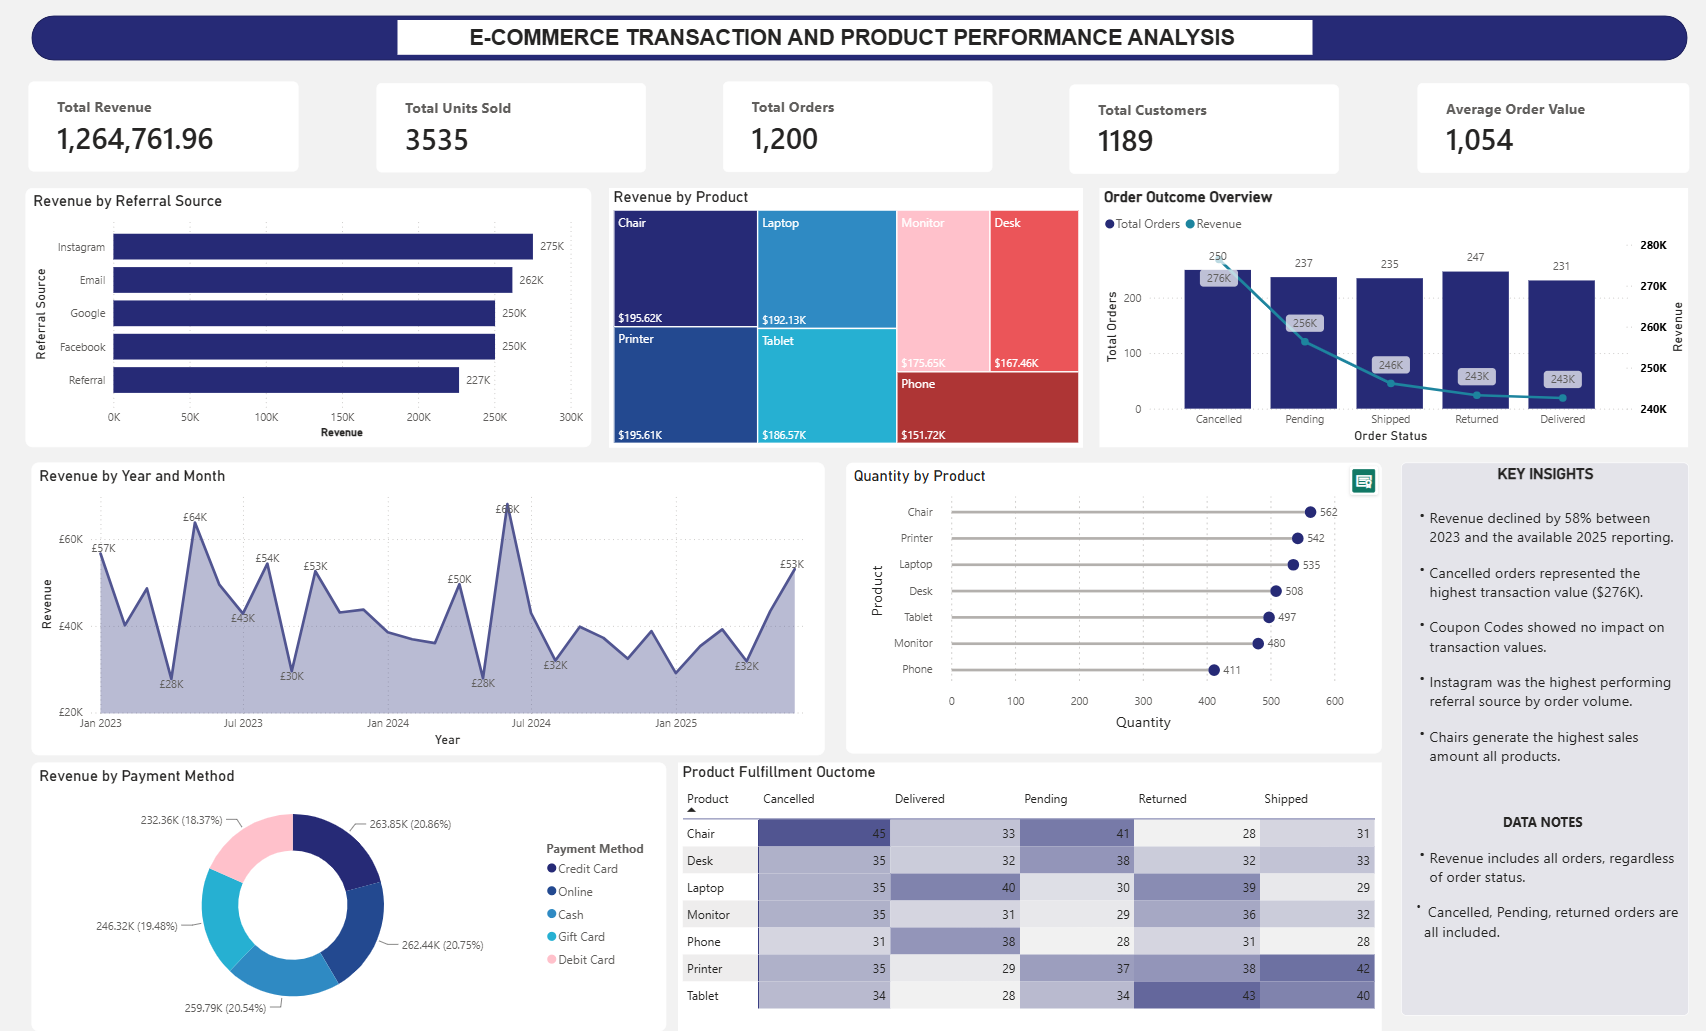

What the dashboard file says about the page in this screenshot:
{"tool":"powerbi","page":{"name":"Page 1","canvas":[1900,1150],"ordinal":0},"visuals":[{"type":"shape","box":[35,18.3,1840,50],"z":0,"group":"g1"},{"type":"cardVisual","fields":{"Data":["Sum(Sheet1.TotalPrice)"]},"box":[31.4,91.4,300,100],"z":0},{"type":"textbox","box":[441.7,23.3,1016.7,38.3],"z":1000,"group":"g1"},{"type":"cardVisual","fields":{"Data":["CountNonNull(Sheet1.OrderID)"]},"box":[803.4,92,299.3,101],"z":1000},{"type":"cardVisual","fields":{"Data":["Count(Sheet1.CustomerID)"]},"box":[1189,94.2,299.3,99.2],"z":2000},{"type":"cardVisual","fields":{"Data":["Sheet1.Sum of TotalPrice divided by Count of OrderID"]},"box":[1574.7,93.5,302,100],"z":3000},{"type":"cardVisual","fields":{"Data":["Sum(Sheet1.Quantity)"]},"box":[417.7,93.7,299.3,99.2],"z":4000},{"type":"barChart","fields":{"Category":["Sheet1.ReferralSource","Sheet1.OrderID"],"Y":["Sum(Sheet1.TotalPrice)"]},"box":[28.4,209.7,629,287.8],"z":5000},{"type":"treemap","fields":{"Group":["Sheet1.Product"],"Values":["Sum(Sheet1.TotalPrice)"]},"box":[676.7,210,526.7,288.3],"z":6000},{"type":"areaChart","fields":{"Y":["Sum(Sheet1.TotalPrice)"],"Category":["Sheet1.Date.Variation.Date Hierarchy.Year","Sheet1.Date.Variation.Date Hierarchy.Month"]},"box":[35.5,515.3,881.3,325.2],"z":7000},{"type":"lineStackedColumnComboChart","title":"Order Outcome Overview ","fields":{"Category":["Sheet1.OrderStatus"],"Y":["Count(Sheet1.OrderID)"],"Y2":["Sum(Sheet1.TotalPrice)"]},"box":[1222.4,209.7,653.9,287.8],"z":8000},{"type":"donutChart","fields":{"Category":["Sheet1.PaymentMethod"],"Y":["Sum(Sheet1.TotalPrice)"]},"box":[35.5,847.5,705.4,298.5],"z":10000},{"type":"lollipopBarChart29115F0ADEDB437DBCDF8E8A3E66E088","fields":{"axis":["Sheet1.Product"],"values":["Sum(Sheet1.Quantity)"]},"box":[939.9,515.3,595.2,323.4],"z":11000},{"type":"textbox","title":"KEY INSIGHTS","box":[1556.5,515.3,319.8,614.8],"z":12000},{"type":"pivotTable","title":"Product Fulfillment Ouctome ","fields":{"Rows":["Sheet1.Product"],"Columns":["Sheet1.OrderStatus"],"Values":["Count(Sheet1.OrderID)"]},"box":[753.4,847.5,781.8,298.5],"z":13000},{"type":"group","id":"g1","title":"Group 1","box":[35,18.3,1840,50],"z":14000}]}

Visuals, with their boxes in screenshot pixels (x1, y1, x2, y2), scaled from the page's 1900x1150 canvas onto the 1706x1031 screenshot:
shape: detection(31, 16, 1684, 61)
cardVisual - Sum(Sheet1.TotalPrice): detection(28, 82, 298, 172)
textbox: detection(397, 21, 1309, 55)
cardVisual - CountNonNull(Sheet1.OrderID): detection(721, 82, 990, 173)
cardVisual - Count(Sheet1.CustomerID): detection(1068, 84, 1336, 173)
cardVisual - Sheet1.Sum of TotalPrice divided by Count of OrderID: detection(1414, 84, 1685, 173)
cardVisual - Sum(Sheet1.Quantity): detection(375, 84, 644, 173)
barChart - Sheet1.ReferralSource x Sheet1.OrderID: detection(26, 188, 590, 446)
treemap - Sheet1.Product x Sum(Sheet1.TotalPrice): detection(608, 188, 1081, 447)
areaChart - Sum(Sheet1.TotalPrice) x Sheet1.Date.Variation.Date Hierarchy.Year: detection(32, 462, 823, 754)
"Order Outcome Overview " lineStackedColumnComboChart: detection(1098, 188, 1685, 446)
donutChart - Sheet1.PaymentMethod x Sum(Sheet1.TotalPrice): detection(32, 760, 665, 1027)
lollipopBarChart29115F0ADEDB437DBCDF8E8A3E66E088 - Sheet1.Product x Sum(Sheet1.Quantity): detection(844, 462, 1378, 752)
"KEY INSIGHTS" textbox: detection(1398, 462, 1685, 1013)
"Product Fulfillment Ouctome " pivotTable: detection(676, 760, 1378, 1027)
"Group 1" group: detection(31, 16, 1684, 61)
